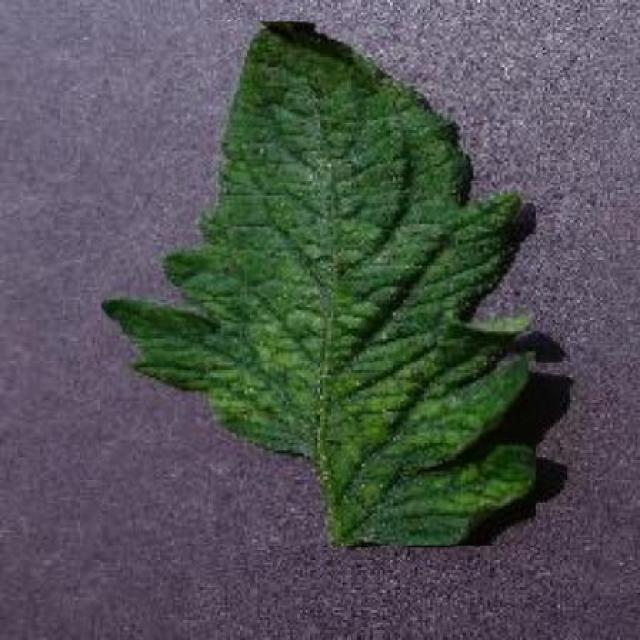Mosaic Virus: (101, 21, 536, 546)
